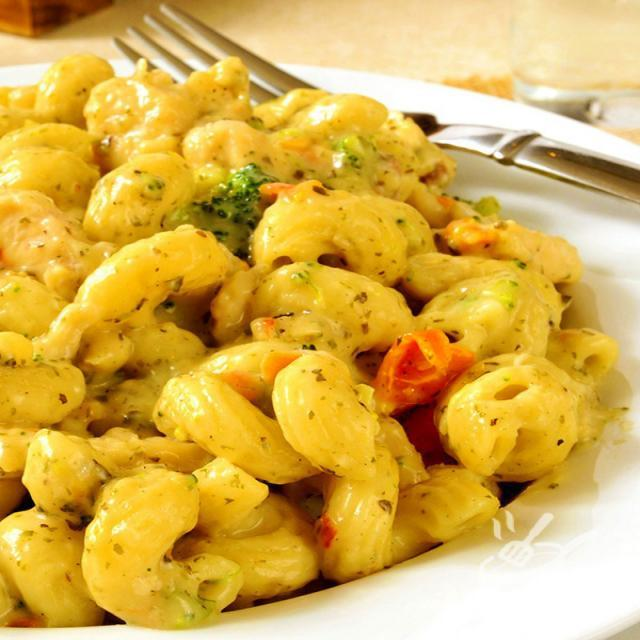Pasta with carbonara sauce: (12, 39, 612, 623)
